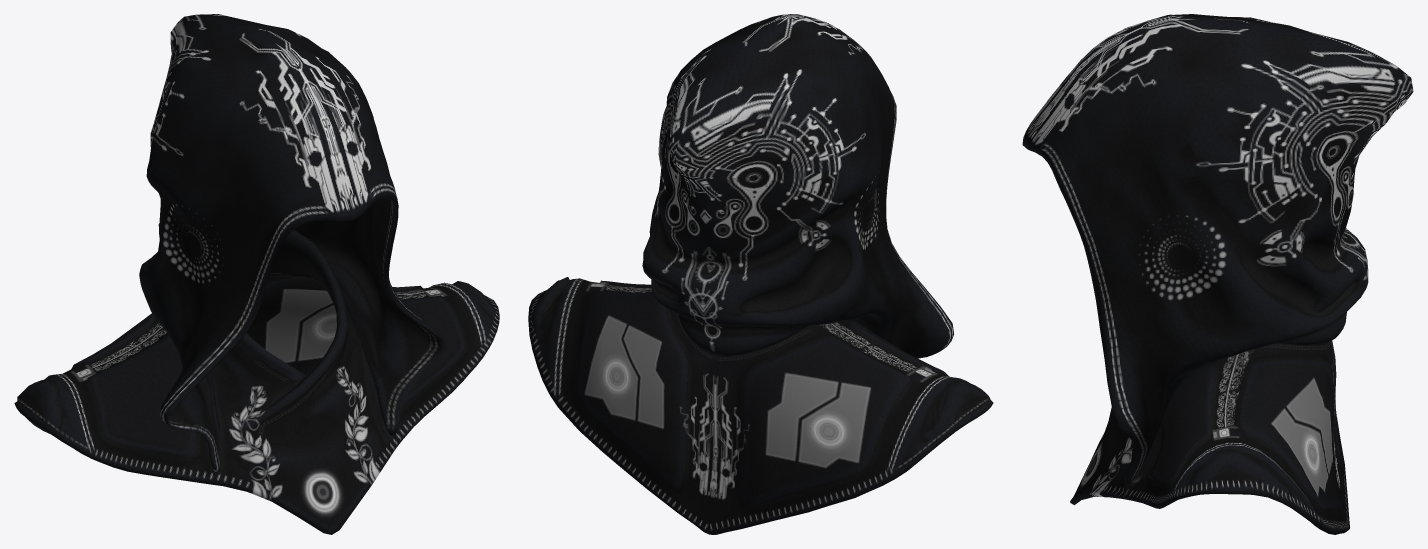
The picture shows the model from 3 angles, left to right: view 1: azimuth 30°, elevation 25°; view 2: azimuth 150°, elevation 25°; view 3: azimuth 270°, elevation 25°; orthographic projection. The views are drawn at different scales.
Parts seen in each view (by area): view 1: kapushon; view 2: kapushon; view 3: kapushon.
Boxes of the visible parts, <box> form: kapushon: <box>14,14,499,534</box>; kapushon: <box>528,14,993,534</box>; kapushon: <box>1022,14,1413,534</box>.
Bounding box in the file's own units: 0.4507 × 0.439 × 0.3043.
Materials: 1 (1 with a texture image).
